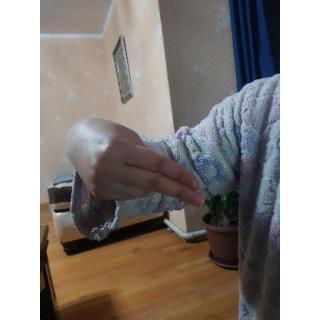AYN: (66, 116, 211, 212)
